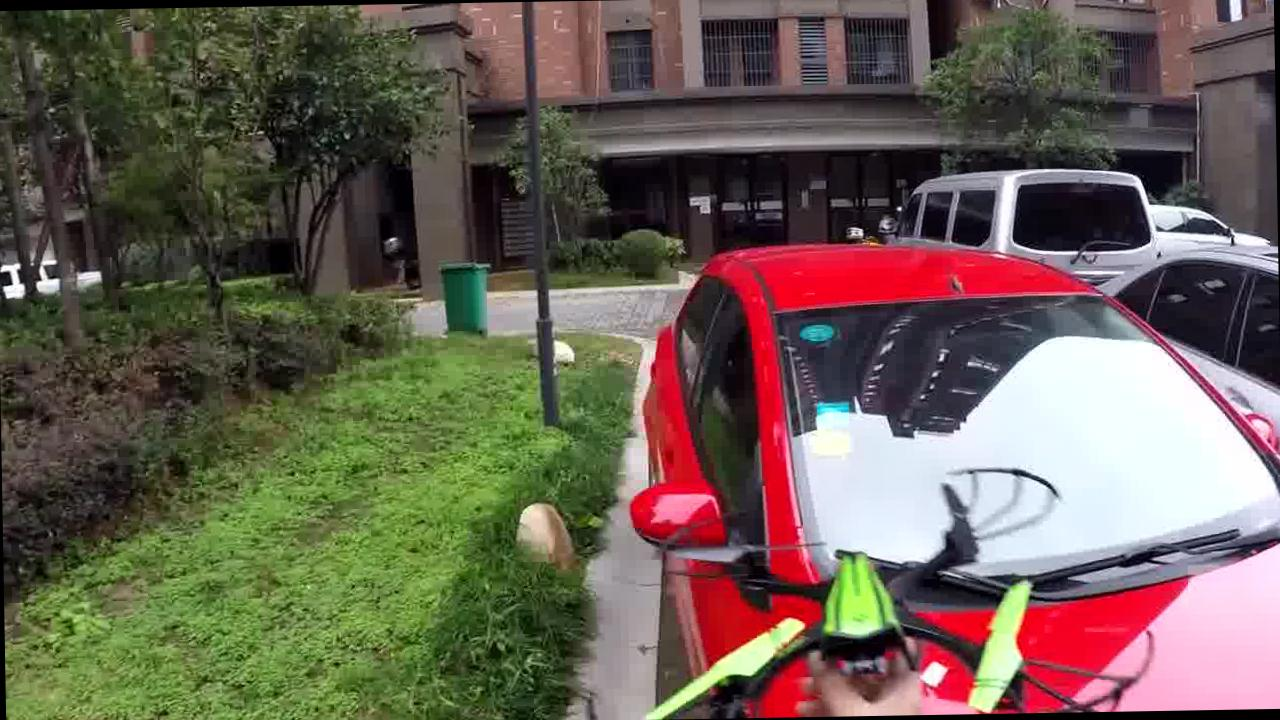drone: (618, 469, 1157, 719)
